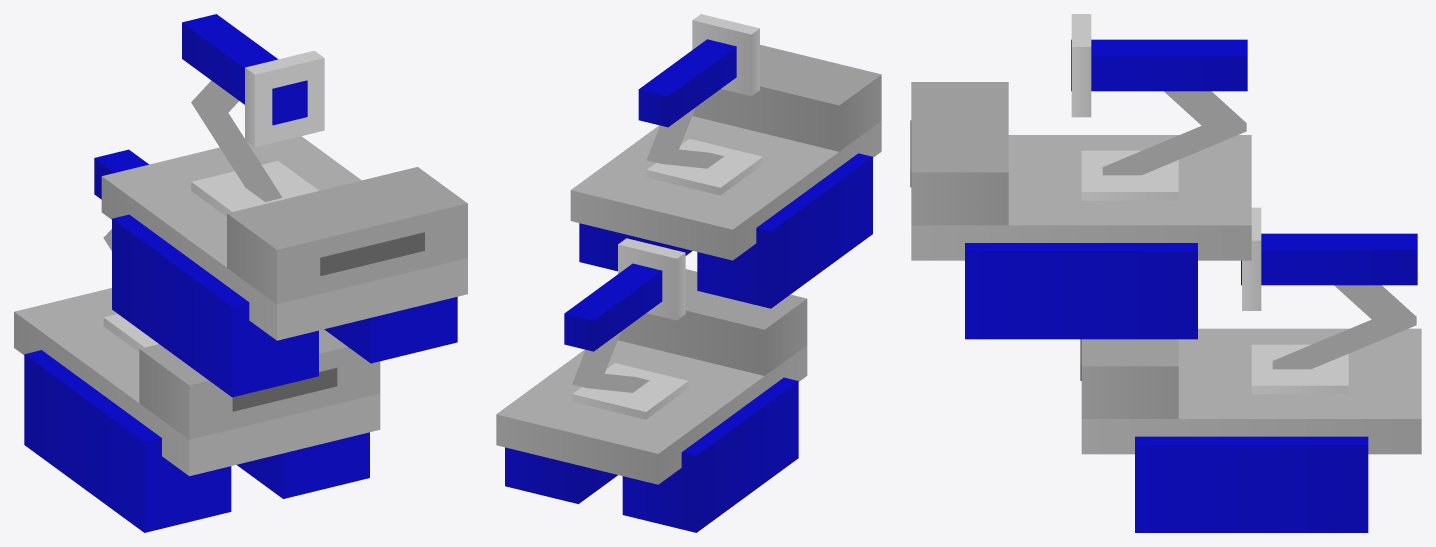
The model's file is tank-maser.glb.
3 views of the same model, side by side, from view 1: azimuth 30°, elevation 25°; view 2: azimuth 150°, elevation 25°; view 3: azimuth 270°, elevation 25° (orthographic). The views are drawn at different scales.
Visible parts, largest first — view 1: muzzle, mesh0; view 2: mesh0, muzzle; view 3: muzzle, mesh0.
Part boxes in pixels (x1,y1,x2,y2): muzzle: (101, 14, 467, 397); mesh0: (14, 149, 380, 532); mesh0: (496, 238, 807, 532); muzzle: (570, 14, 881, 308); muzzle: (910, 14, 1251, 339); mesh0: (1080, 207, 1421, 532).
Bounding box in the file's own units: 2.6 × 5.1 × 5.26.
